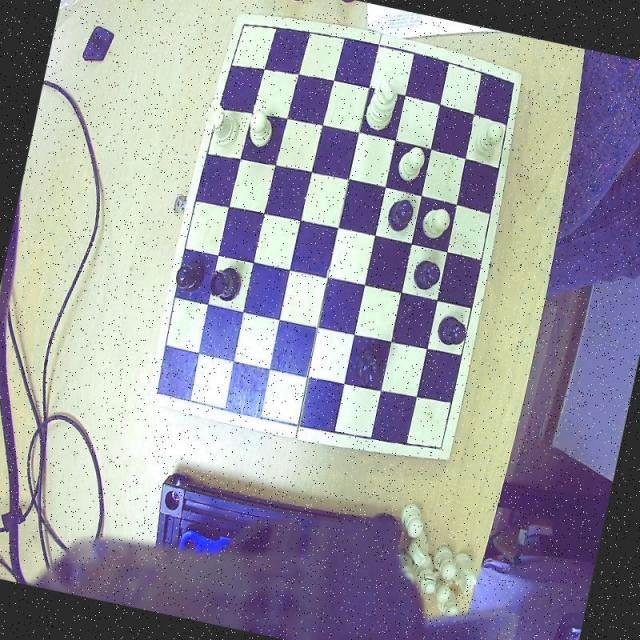chess-table-corners: (150, 377, 176, 405), (426, 435, 451, 462), (502, 70, 522, 102), (237, 13, 260, 38)
